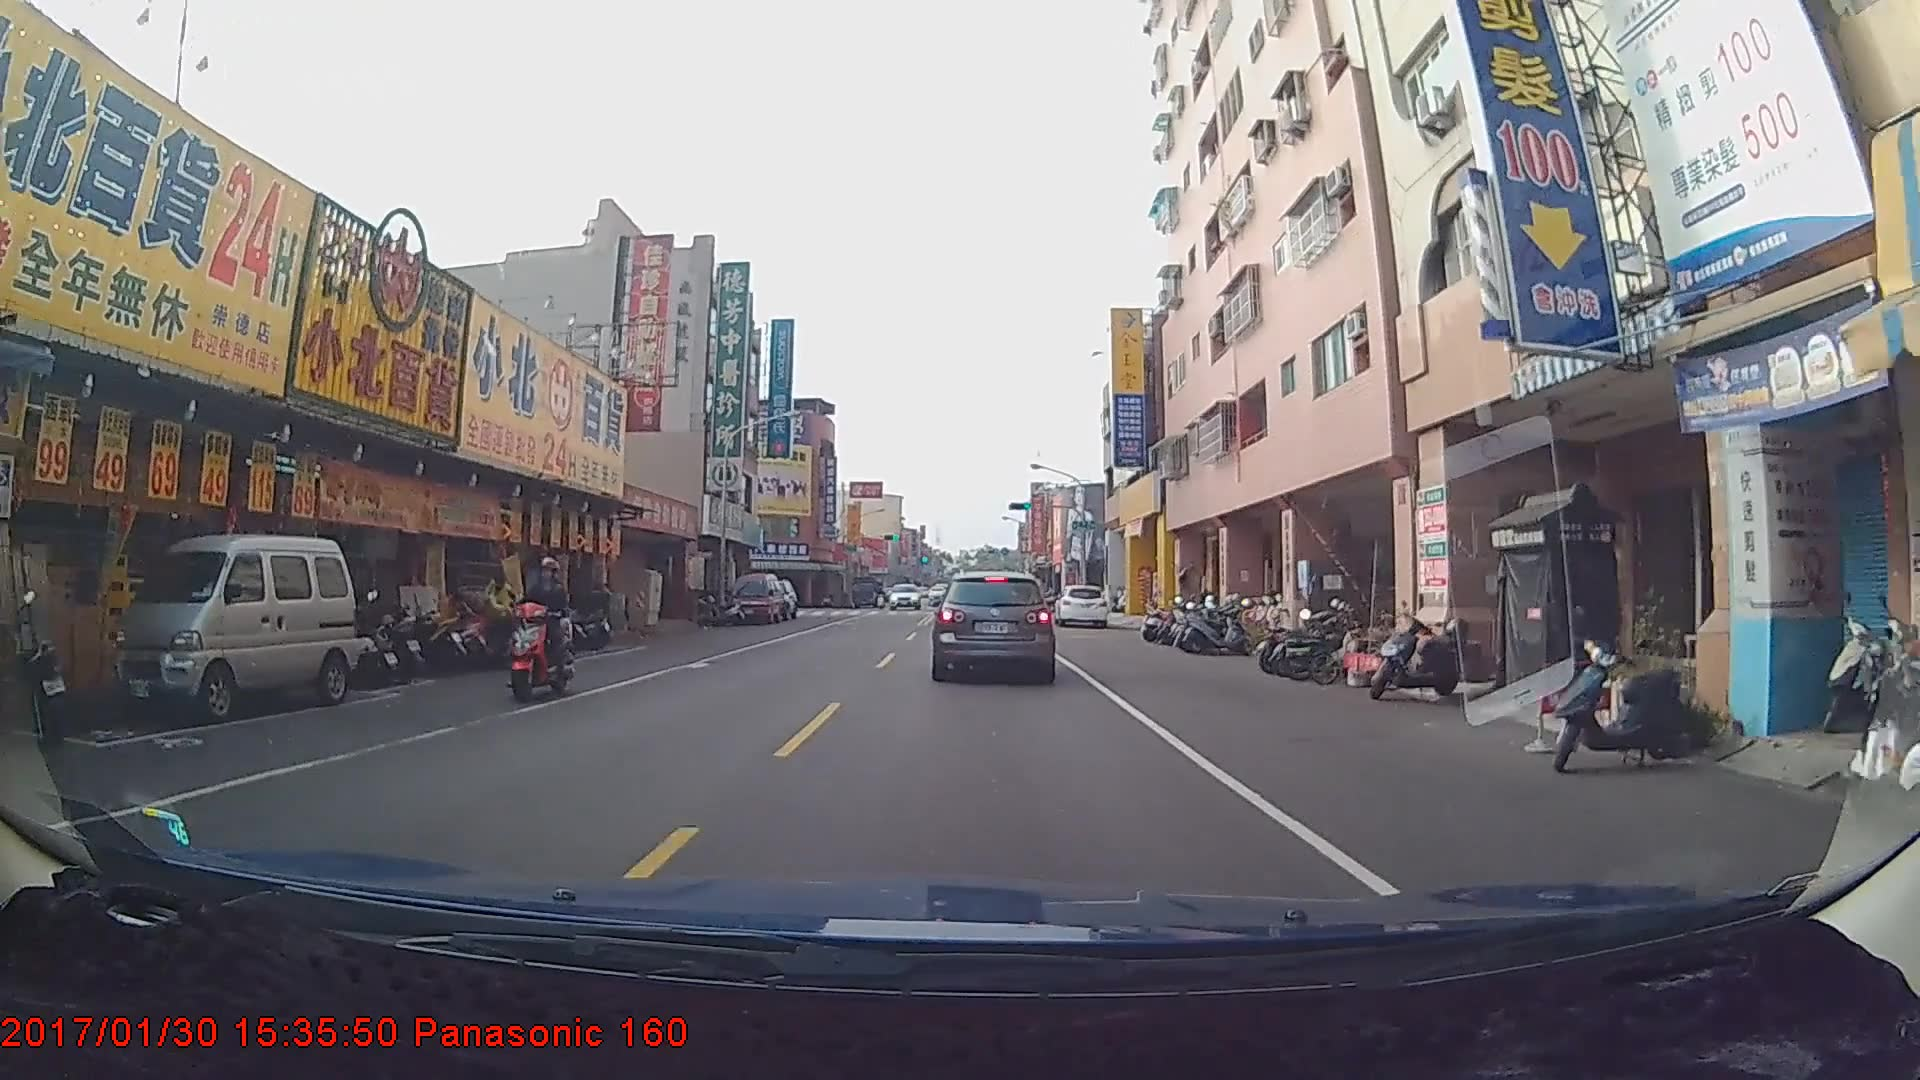pedestrian: (475, 569, 514, 656)
rider: (501, 551, 584, 707)
vehicle: (109, 537, 351, 726), (935, 569, 1054, 680), (729, 571, 783, 624), (1054, 584, 1109, 629), (886, 580, 918, 606)
